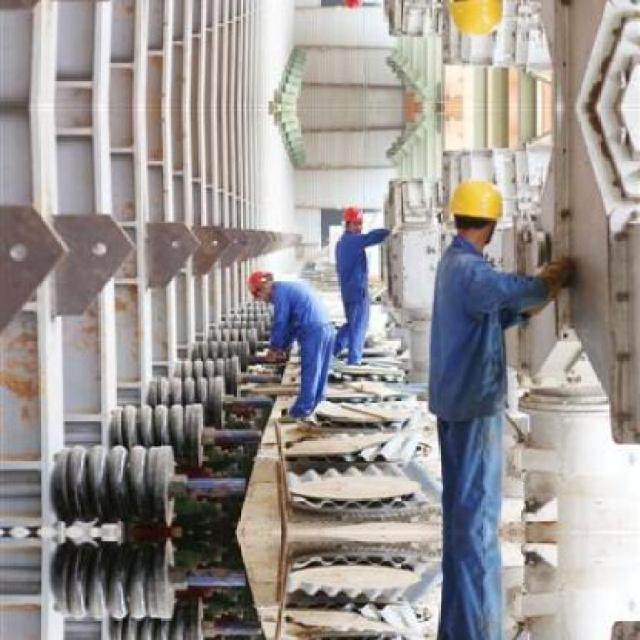helmet: (442, 172, 508, 250), (442, 0, 509, 42), (238, 267, 284, 311), (340, 198, 366, 236), (338, 0, 366, 15)
